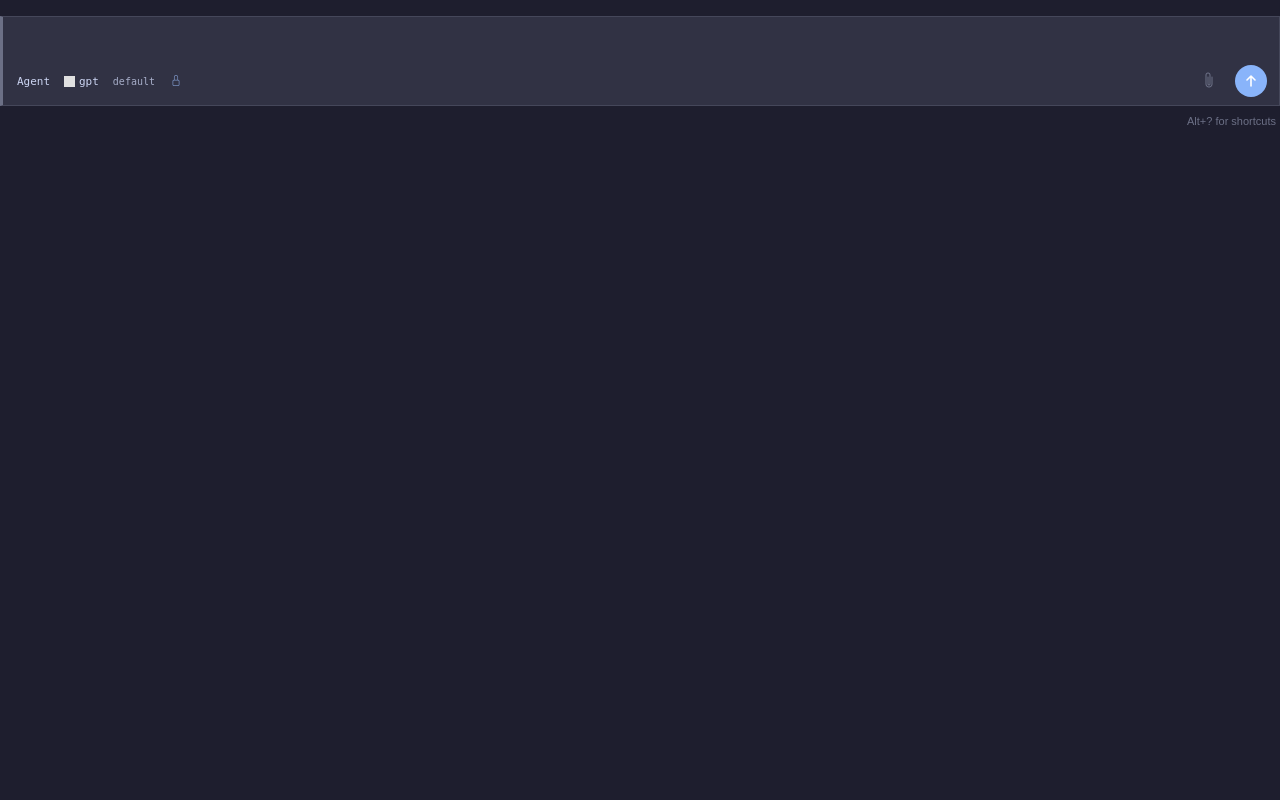
Test: returns focus after selecting from the agent menu
Click the button titled "Agent (click to change)" at (34, 81), box x1=15 y1=72 x2=52 y2=90
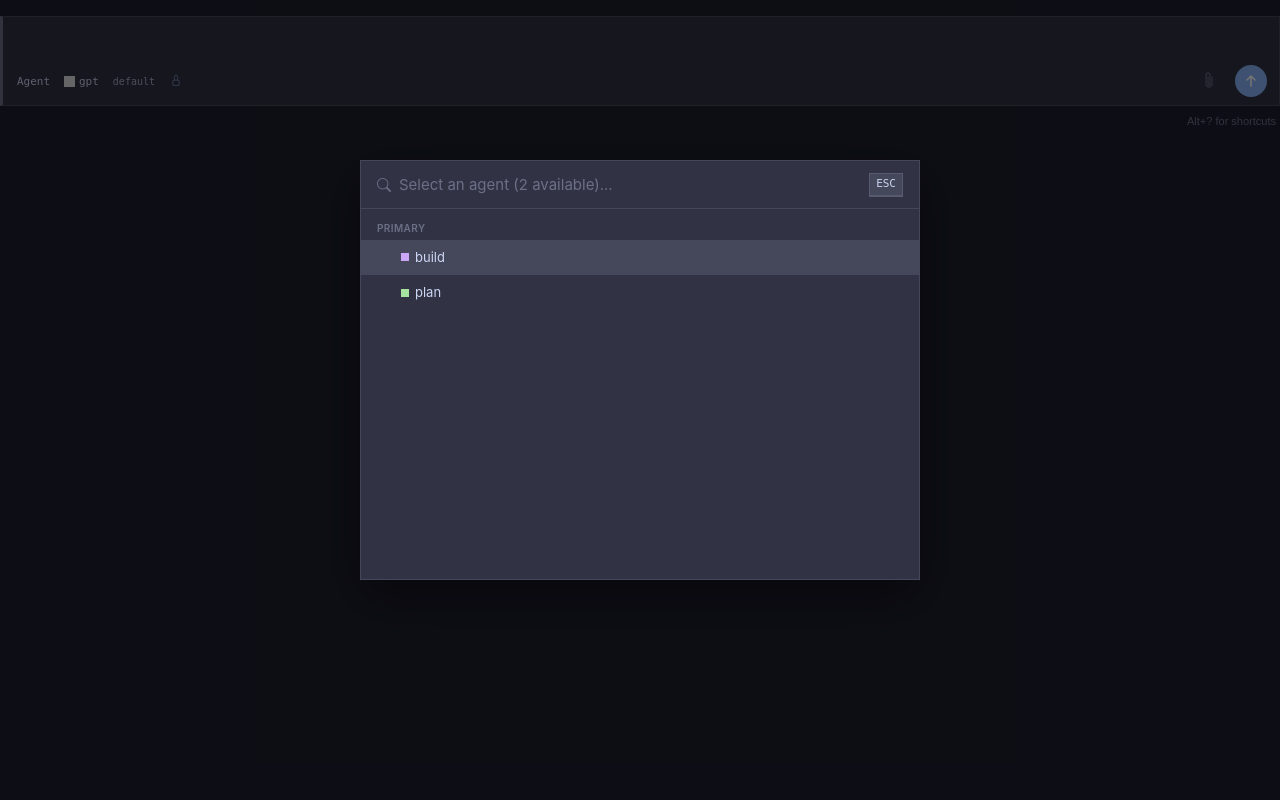
Type "plan" into the dropdown at (630, 184), box x1=399 y1=175 x2=861 y2=194
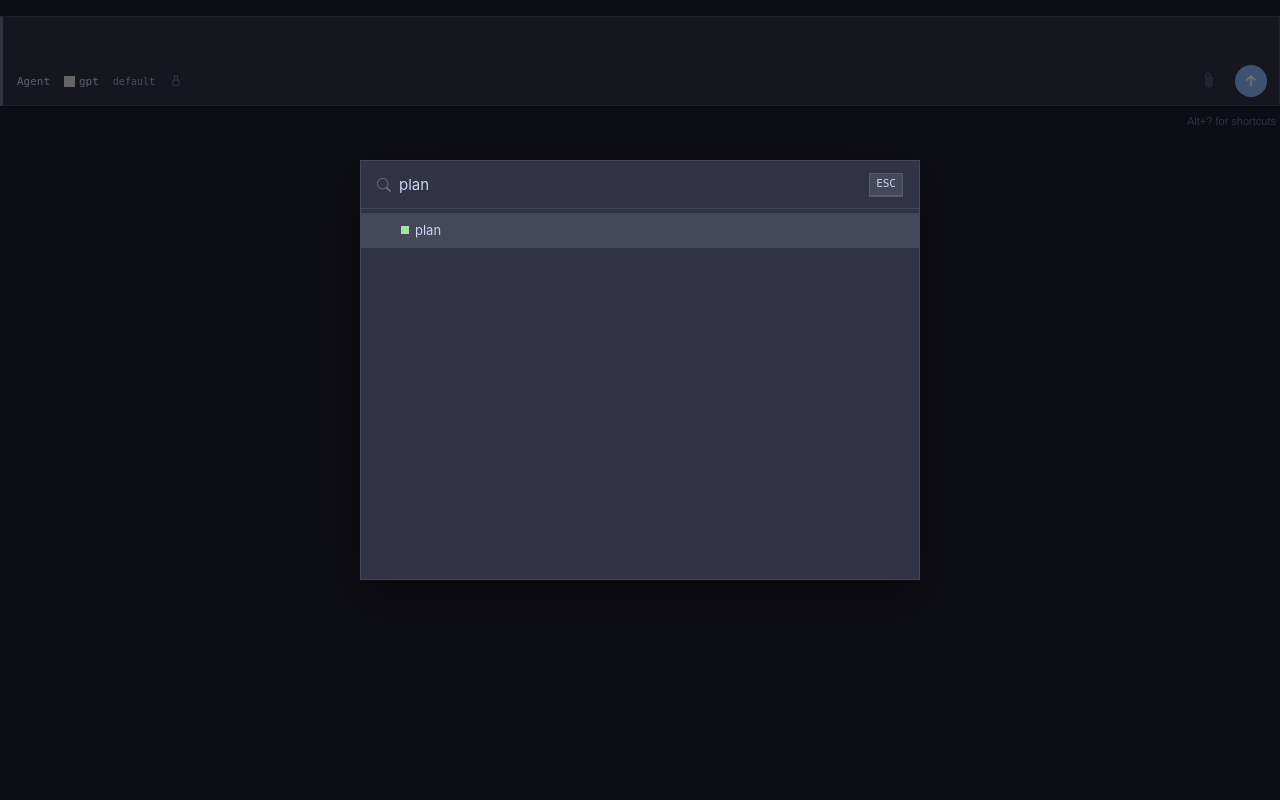
Now the option "plan" is shown, box x1=361 y1=212 x2=919 y2=248
Press Enter
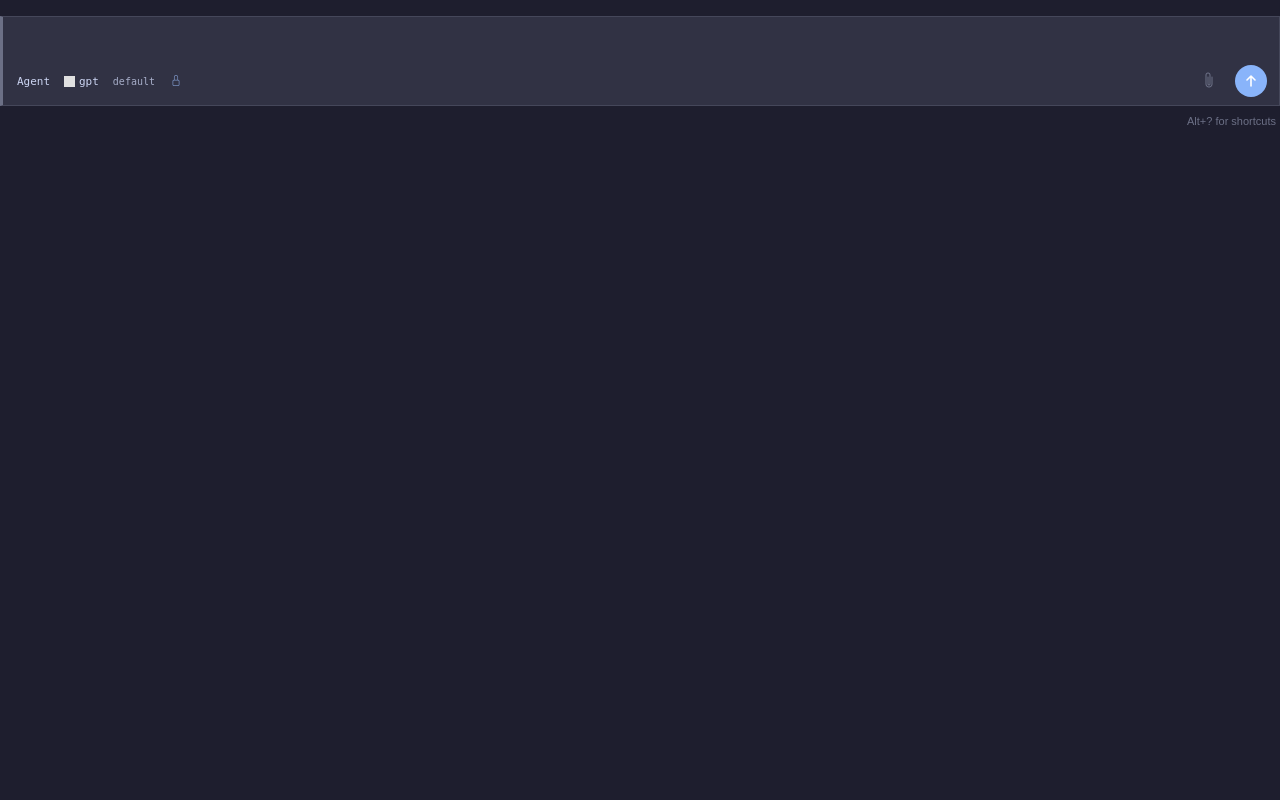
Expected: the text box is empty, x1=3 y1=17 x2=1279 y2=61
Now the dialog is gone
Type keys "Next prompt"
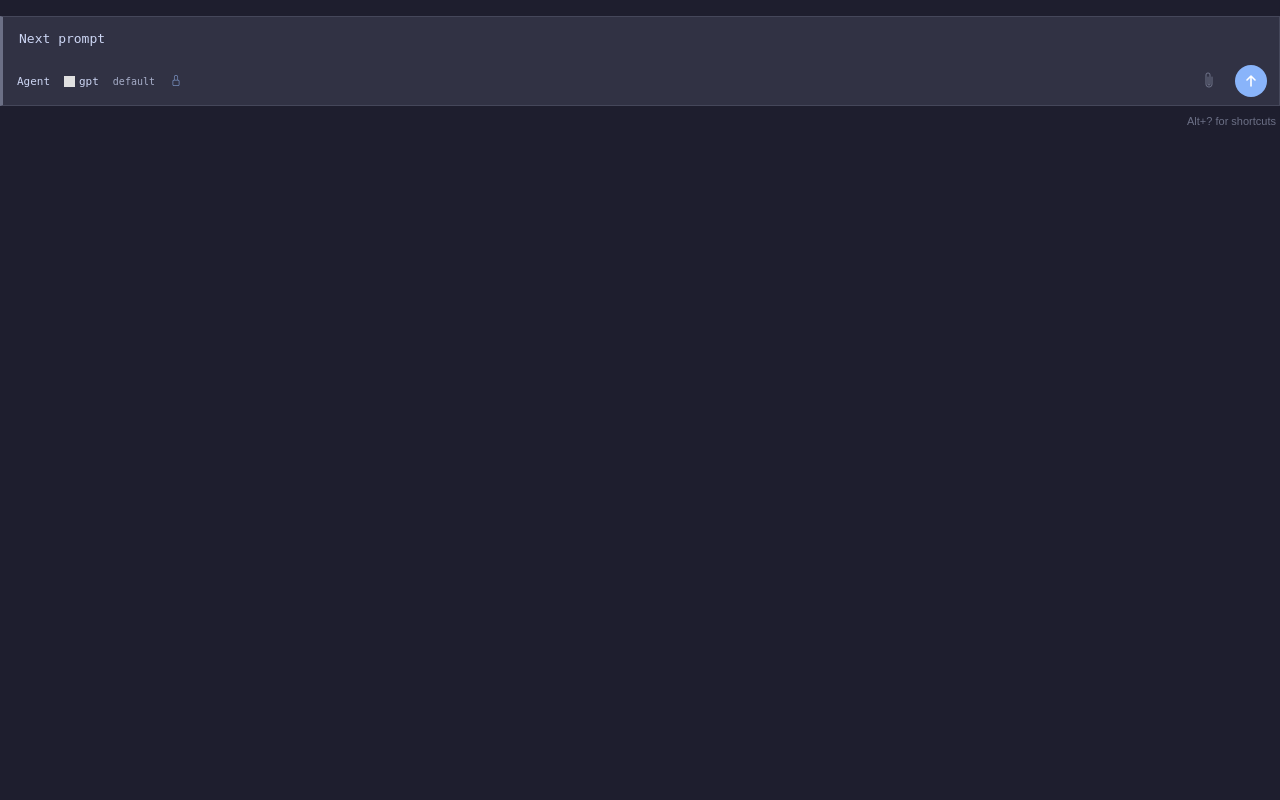
Now the text box holds "Next prompt", box x1=3 y1=17 x2=1279 y2=61
